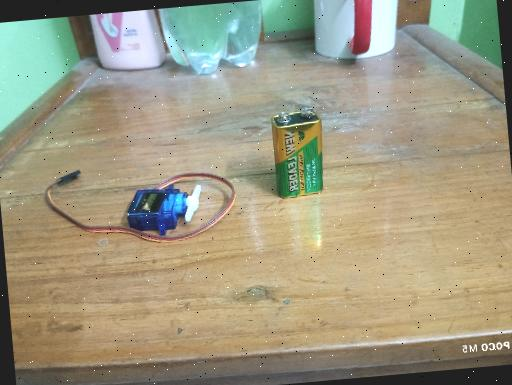Battery: (268, 105, 328, 200)
Motor: (123, 182, 205, 240)
